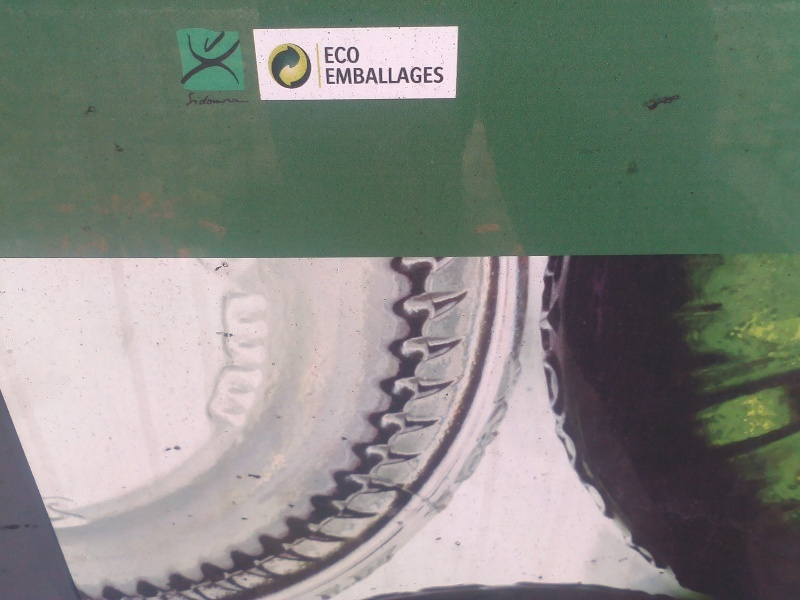text: (337, 46, 352, 65), (337, 67, 352, 85), (353, 67, 368, 85), (369, 67, 384, 85), (385, 67, 400, 85), (401, 67, 416, 85), (417, 67, 432, 85), (193, 92, 208, 108), (209, 92, 224, 108), (225, 92, 240, 108), (325, 46, 336, 65), (433, 67, 444, 85), (326, 67, 336, 85), (241, 92, 251, 108), (353, 46, 360, 65), (187, 92, 192, 108)
